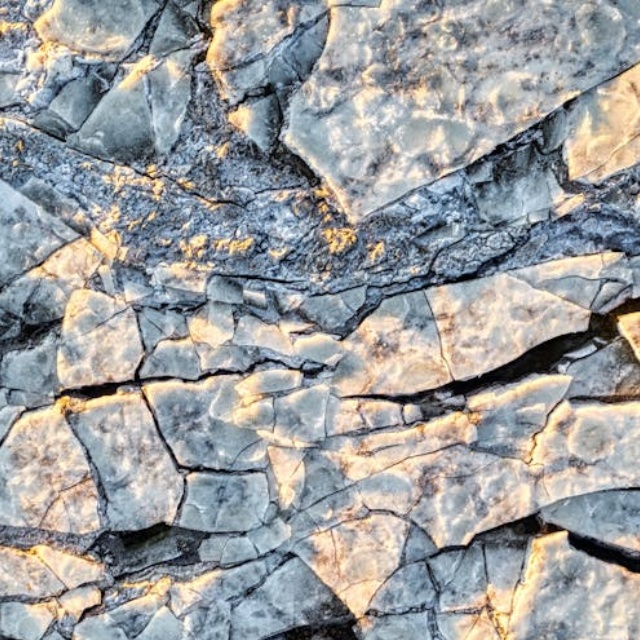深大裂缝: (285, 286, 640, 439), (431, 460, 640, 640)
细微裂纹: (0, 345, 349, 412)
